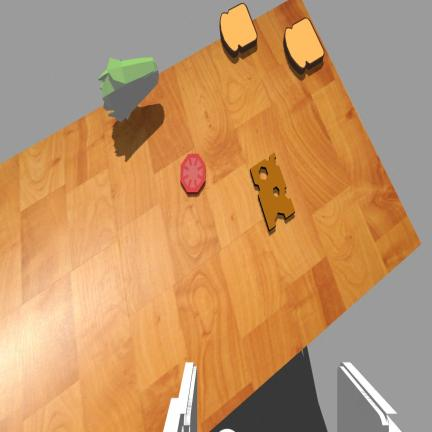cheese: (251, 154, 294, 230)
lettuce: (98, 58, 158, 121)
sliced_bread: (284, 18, 324, 73), (220, 3, 257, 56)
sliced_tomato: (181, 154, 205, 193)
